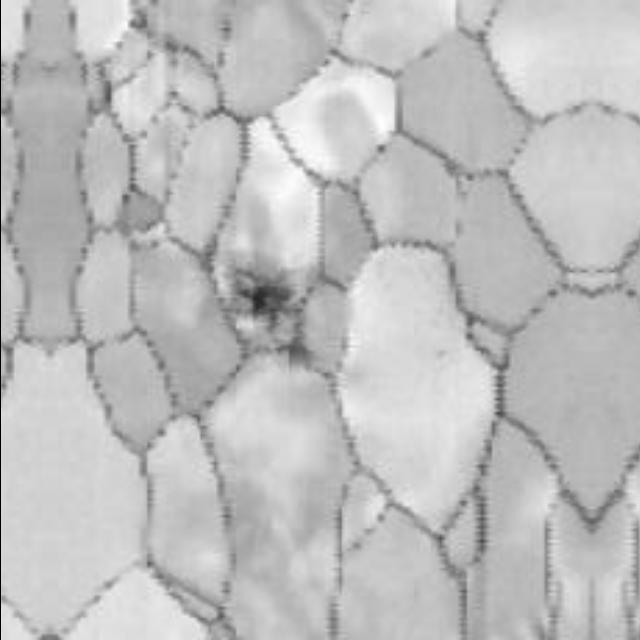good_void: (226, 264, 298, 333)
